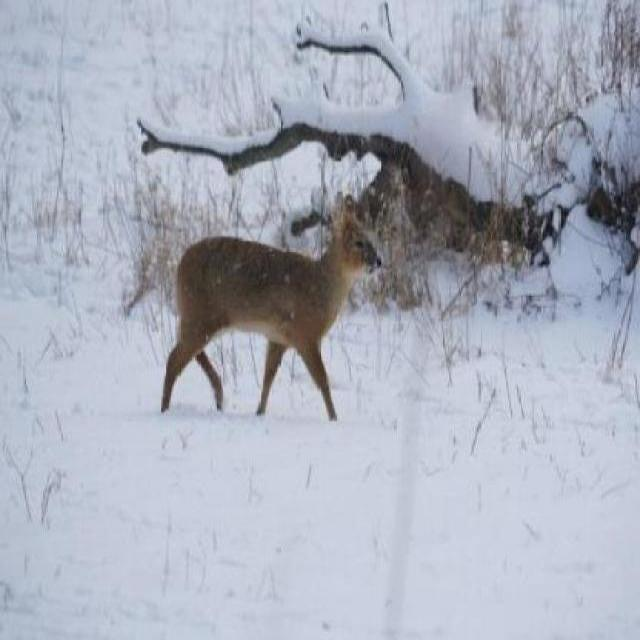deer: (157, 193, 389, 423)
